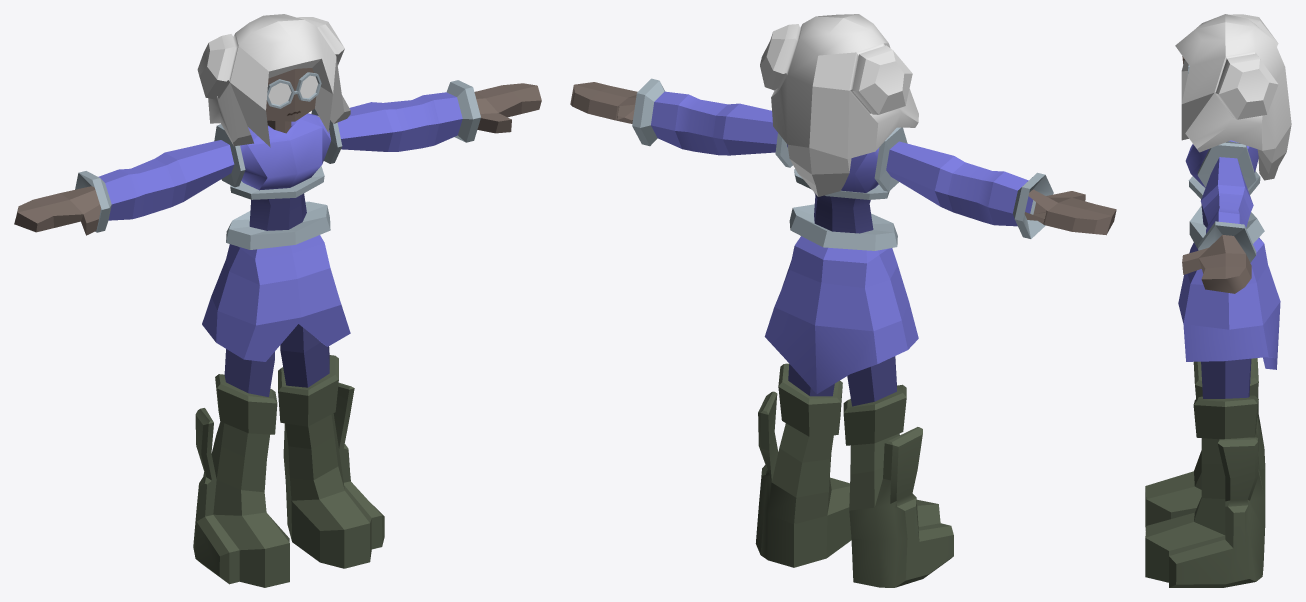
The model's file is SkyeNew.fbx.
The picture shows the model from 3 angles, left to right: view 1: azimuth 30°, elevation 25°; view 2: azimuth 150°, elevation 25°; view 3: azimuth 270°, elevation 25°; orthographic projection. The views are drawn at different scales.
Parts seen in each view (by area): view 1: pCube1, polySurface2; view 2: pCube1; view 3: pCube1.
Boxes of the visible parts, x1,y1,x2,y2 form: pCube1: (14, 14, 541, 587); polySurface2: (267, 72, 321, 108); pCube1: (570, 14, 1116, 587); pCube1: (1145, 14, 1291, 587).
Bounding box in the file's own units: 25.13 × 24.26 × 6.07.
8 materials, 1 textured.
